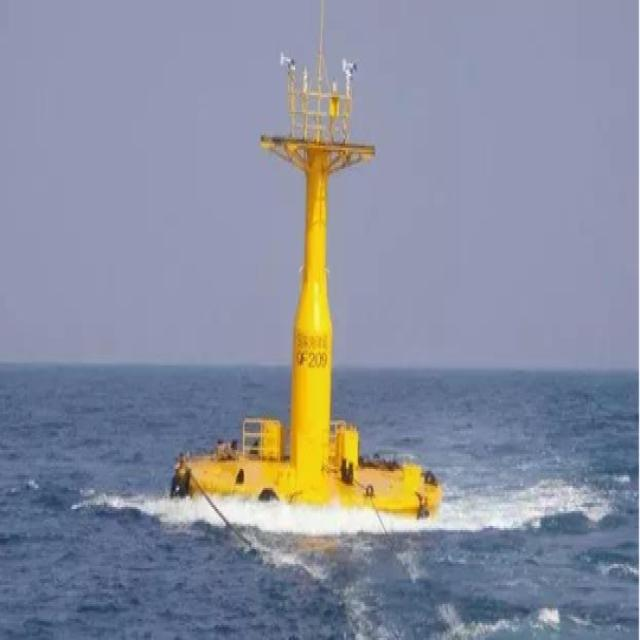buoy: (172, 0, 442, 523)
